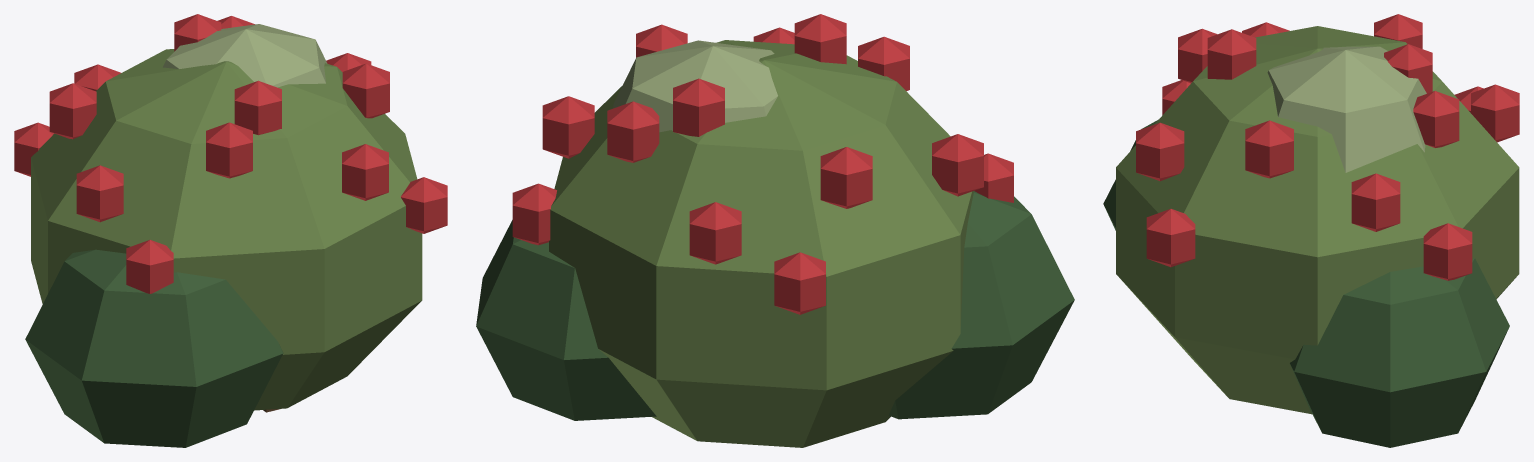
File: berry_bush.glb
3 renders of one model, left to right at view 1: azimuth 30°, elevation 25°; view 2: azimuth 150°, elevation 25°; view 3: azimuth 270°, elevation 25°, orthographic. The views are drawn at different scales.
Visible parts, largest first — view 1: BerryBush; view 2: BerryBush; view 3: BerryBush.
Boxes of the visible parts, x1,y1,x2,y2 form: BerryBush: [14, 14, 447, 447]; BerryBush: [476, 14, 1074, 447]; BerryBush: [1103, 14, 1519, 447].
Size of the model in its own units: 1.04 by 0.8 by 0.8404.
